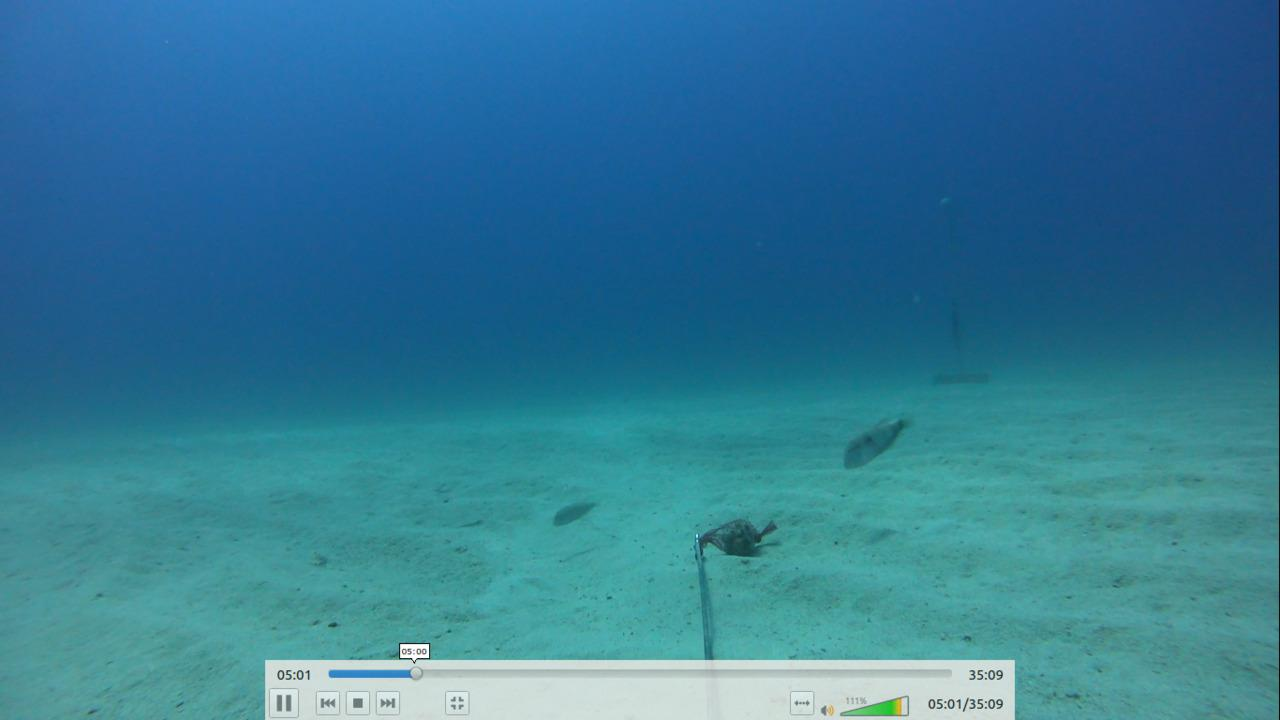raor: (834, 410, 919, 479), (541, 493, 604, 534)
